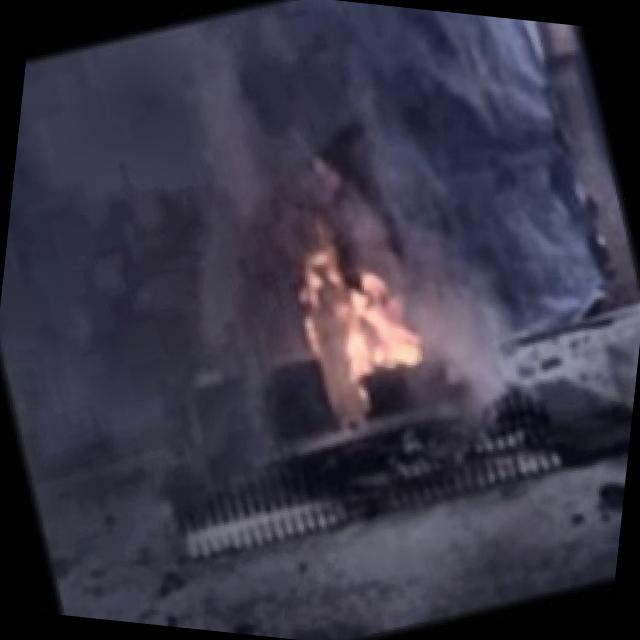fire: (258, 198, 449, 427)
